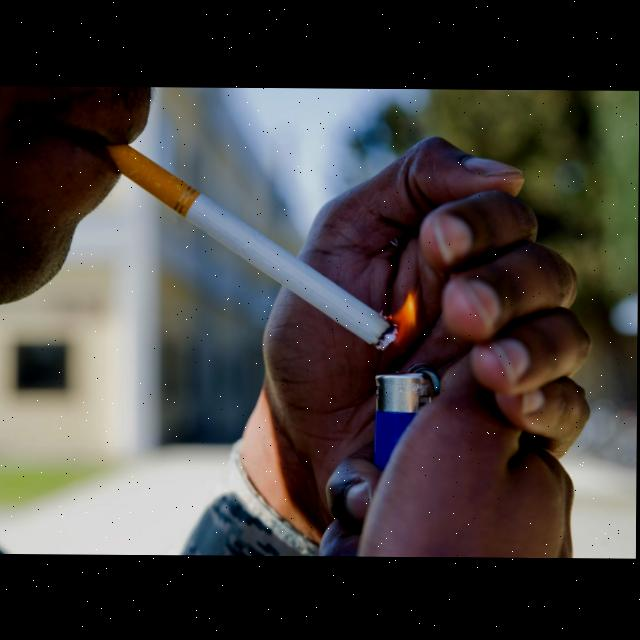cigarette: (106, 144, 401, 351)
